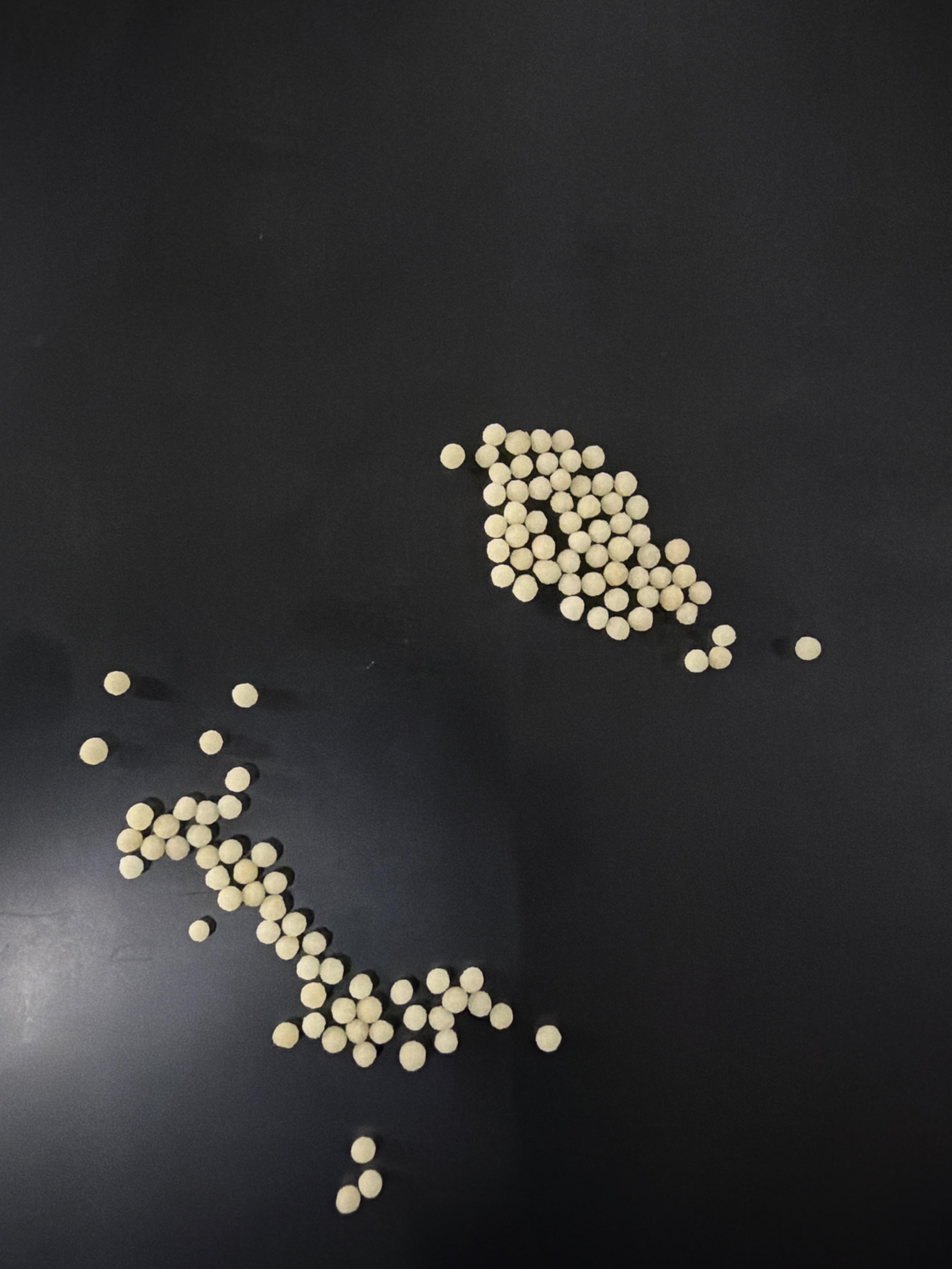pill: (346, 1132, 378, 1162), (397, 1045, 428, 1072), (230, 764, 260, 791), (685, 651, 710, 681), (324, 1028, 349, 1054), (710, 650, 734, 675), (298, 1013, 326, 1034), (339, 1180, 360, 1208), (99, 667, 124, 690), (226, 683, 255, 702), (365, 1170, 390, 1191), (626, 495, 651, 515), (276, 1019, 296, 1044), (280, 932, 299, 958), (259, 900, 288, 917), (515, 576, 537, 598), (192, 918, 213, 941), (358, 999, 381, 1020), (534, 1023, 562, 1040), (567, 601, 592, 620), (187, 826, 213, 844), (589, 574, 611, 595), (257, 841, 278, 863), (234, 857, 255, 879), (194, 800, 215, 821), (492, 563, 515, 582), (261, 877, 286, 894), (282, 915, 307, 932), (302, 985, 327, 1002), (483, 543, 511, 558), (327, 1024, 347, 1045), (568, 530, 592, 547), (426, 1006, 450, 1023), (145, 838, 166, 857), (356, 973, 374, 995), (350, 1040, 372, 1058), (375, 1024, 393, 1046), (435, 1037, 461, 1052), (633, 612, 657, 628), (490, 1002, 506, 1026), (154, 813, 174, 832), (119, 858, 139, 877), (257, 916, 275, 937), (442, 993, 464, 1010), (565, 553, 588, 569), (199, 866, 222, 882), (204, 728, 217, 756), (306, 930, 325, 949), (218, 796, 239, 813), (165, 839, 187, 855), (324, 960, 340, 982), (671, 603, 694, 618), (408, 1046, 427, 1064), (605, 566, 626, 582), (240, 884, 261, 900), (338, 994, 354, 1015), (127, 802, 145, 820), (514, 456, 531, 475), (795, 638, 814, 655), (407, 1005, 422, 1026), (609, 591, 627, 608), (441, 447, 457, 466), (173, 801, 192, 817), (390, 986, 409, 1002), (433, 1015, 453, 1030), (480, 448, 497, 465), (510, 481, 527, 498), (603, 495, 621, 511), (629, 565, 647, 581), (463, 969, 481, 985), (465, 977, 483, 993), (555, 433, 574, 448), (492, 464, 511, 479), (607, 566, 626, 581), (450, 999, 469, 1014), (557, 518, 577, 532), (480, 482, 501, 495), (684, 585, 705, 598), (593, 606, 609, 623), (537, 566, 555, 581), (535, 542, 553, 557), (637, 553, 655, 568), (612, 593, 634, 605), (660, 589, 676, 605), (528, 512, 545, 527), (489, 423, 503, 441), (593, 602, 607, 620), (358, 1044, 372, 1062), (513, 551, 529, 566), (608, 515, 628, 527), (589, 573, 604, 589), (221, 842, 235, 859), (81, 738, 99, 751), (667, 544, 688, 555), (488, 520, 507, 532), (591, 526, 610, 538), (508, 433, 523, 448), (119, 830, 135, 844), (429, 969, 443, 985), (533, 480, 550, 493), (566, 572, 583, 585), (564, 513, 582, 525), (674, 568, 692, 580), (467, 998, 485, 1010), (632, 571, 647, 585), (720, 627, 730, 648), (508, 524, 524, 537), (534, 560, 550, 573), (678, 569, 691, 585), (643, 591, 660, 603), (618, 475, 633, 488), (593, 520, 606, 535), (609, 539, 624, 552), (611, 616, 626, 629), (573, 481, 589, 493), (564, 453, 577, 467), (634, 530, 647, 544), (299, 956, 313, 969), (352, 1024, 366, 1037), (507, 501, 522, 513), (642, 594, 658, 605), (491, 486, 504, 499), (200, 846, 213, 859), (595, 478, 609, 490), (224, 888, 236, 901), (552, 473, 566, 484), (555, 474, 569, 485), (589, 445, 598, 461), (632, 503, 644, 515), (528, 431, 539, 444), (538, 456, 549, 469), (582, 497, 595, 508), (552, 496, 566, 506), (565, 449, 574, 464), (530, 478, 542, 489), (513, 486, 526, 496), (531, 517, 545, 526), (643, 549, 655, 559), (662, 589, 675, 598), (660, 573, 668, 587), (555, 471, 564, 482)
